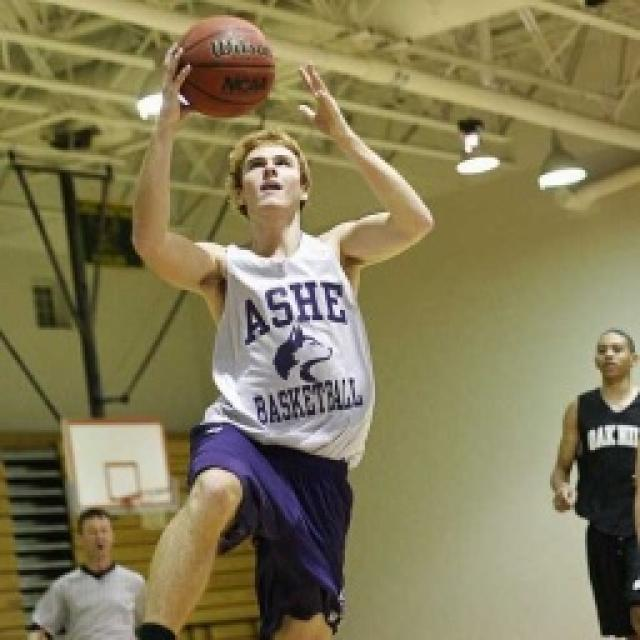basketball: (173, 12, 281, 116)
